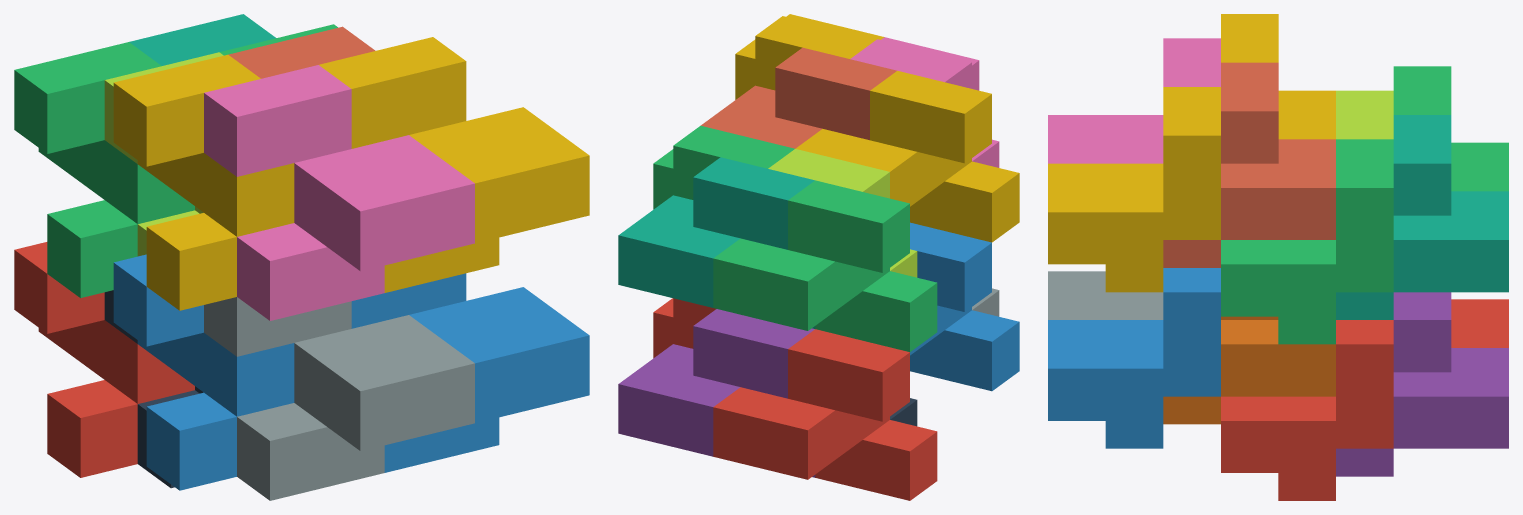
Rendered from tiling.obj.
3 renders of one model, left to right at view 1: azimuth 30°, elevation 25°; view 2: azimuth 150°, elevation 25°; view 3: azimuth 270°, elevation 25°, orthographic. The views are drawn at different scales.
Parts seen in each view (by area): view 1: copy_2_domain_4, copy_2_domain_2, copy_2_domain_8, copy_1_domain_4, copy_1_domain_3, copy_2_domain_6, copy_1_domain_2, copy_1_domain_1, copy_1_domain_8, copy_1_domain_7, copy_2_domain_3, copy_2_domain_1; view 2: copy_1_domain_3, copy_1_domain_1, copy_1_domain_4, copy_1_domain_7, copy_1_domain_5, copy_1_domain_2, copy_1_domain_8, copy_2_domain_8, copy_2_domain_7, copy_2_domain_4, copy_2_domain_3, copy_2_domain_5 (+2 smaller); view 3: copy_2_domain_8, copy_2_domain_6, copy_2_domain_7, copy_2_domain_5, copy_1_domain_7, copy_1_domain_8, copy_1_domain_5, copy_1_domain_6, copy_2_domain_4, copy_1_domain_3, copy_1_domain_4, copy_2_domain_2 (+2 smaller).
Part boxes in pixels (x1,y1,x2,y2): copy_2_domain_4: (204,65,474,320); copy_2_domain_2: (204,297,474,500); copy_2_domain_8: (319,37,589,292); copy_1_domain_4: (113,54,294,310); copy_1_domain_3: (14,42,194,297); copy_2_domain_6: (351,273,589,472); copy_1_domain_2: (113,254,294,490); copy_1_domain_1: (14,242,194,477); copy_1_domain_8: (228,26,375,78); copy_1_domain_7: (129,14,276,65); copy_2_domain_3: (104,52,223,256); copy_2_domain_1: (104,290,203,488); copy_1_domain_3: (713,180,937,351); copy_1_domain_1: (713,329,937,500); copy_1_domain_4: (795,71,1019,242); copy_1_domain_7: (618,157,815,328); copy_1_domain_5: (618,309,815,477); copy_1_domain_2: (910,222,1019,391); copy_1_domain_8: (701,47,896,148); copy_2_domain_8: (735,14,884,99); copy_2_domain_7: (653,125,794,209); copy_2_domain_4: (850,37,999,167); copy_2_domain_3: (768,149,917,277); copy_2_domain_5: (653,298,716,358); copy_2_domain_8: (1048,87,1220,292); copy_2_domain_6: (1048,268,1220,448); copy_2_domain_7: (1221,139,1393,344); copy_2_domain_5: (1221,320,1393,500); copy_1_domain_7: (1336,115,1508,319); copy_1_domain_8: (1163,62,1335,267); copy_1_domain_5: (1336,292,1508,476); copy_1_domain_6: (1163,316,1335,424); copy_2_domain_4: (1048,38,1220,163); copy_1_domain_3: (1393,66,1508,191); copy_1_domain_4: (1221,14,1335,139); copy_2_domain_2: (1048,271,1163,319).
Bounding box in the file's own units: 6 × 7 × 8.
